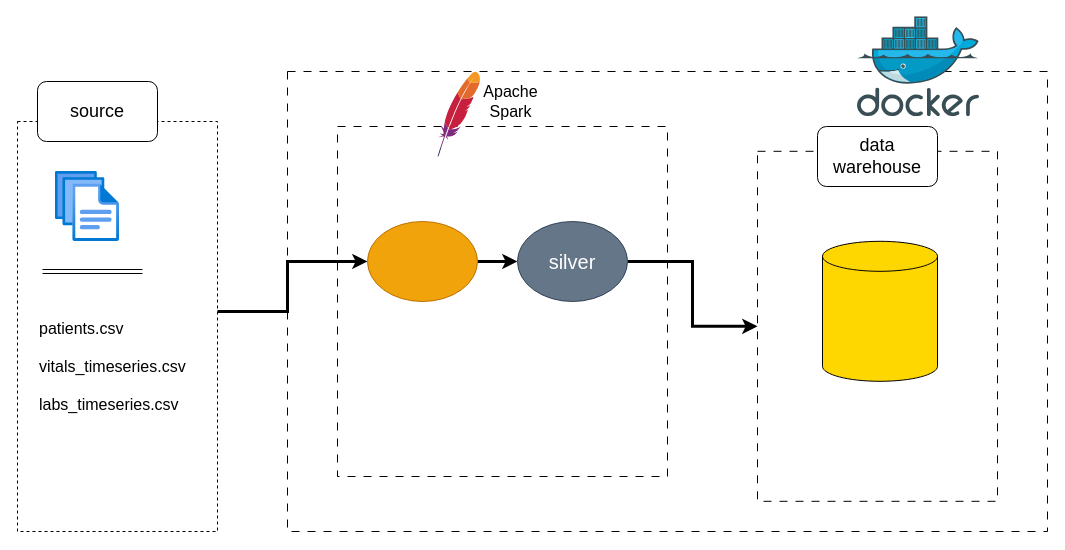
This 1065x550 diagram has some shape labels left out. The centre of each missing label's shape, as x and y in pixels:
"bronze" belongs at (x=422, y=261).
"gold layer" belongs at (x=880, y=310).
